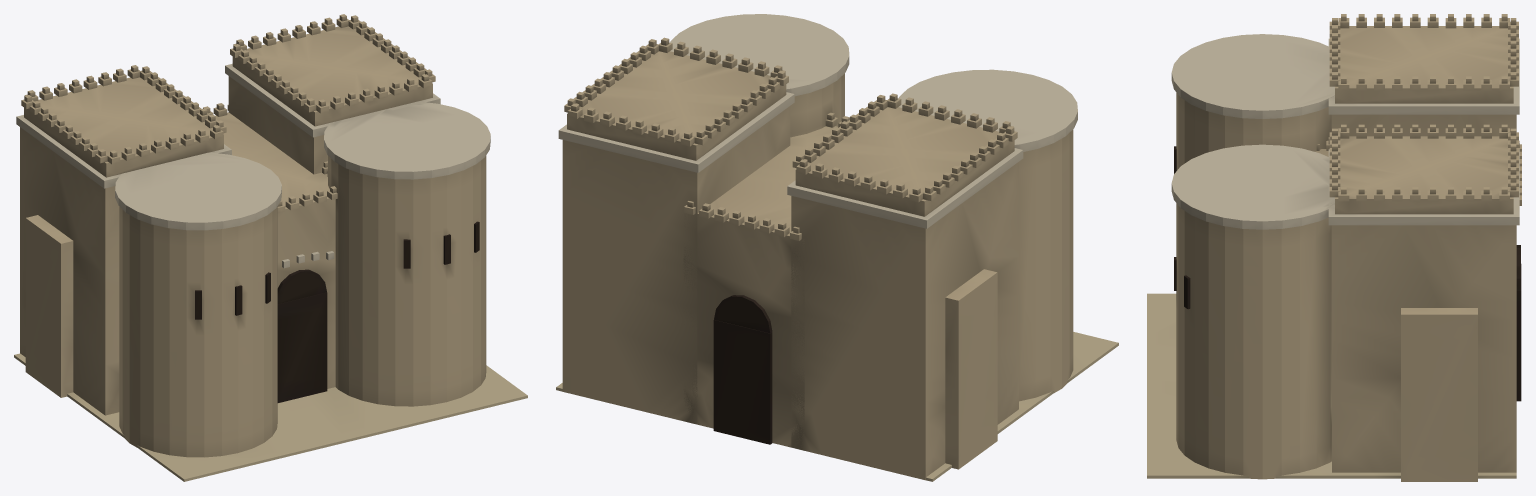
The model's file is bab-al-futuh.glb.
3 renders of one model, left to right at view 1: azimuth 30°, elevation 25°; view 2: azimuth 150°, elevation 25°; view 3: azimuth 270°, elevation 25°, orthographic. The views are drawn at different scales.
Visible parts, largest first — view 1: p1_gate, p2_parapets, p0_ground; view 2: p1_gate, p2_parapets, p0_ground; view 3: p1_gate, p2_parapets, p0_ground.
Part boxes in pixels (x1,y1,x2,y2): p1_gate: (16,63,490,457); p2_parapets: (21,14,435,213); p0_ground: (14,215,527,481); p1_gate: (558,14,1077,480); p2_parapets: (564,37,1017,240); p0_ground: (556,269,1118,481); p1_gate: (1171,34,1521,479); p2_parapets: (1316,14,1521,214); p0_ground: (1147,293,1516,481).
Bounding box in the file's own units: 29 × 20.48 × 24.35.
